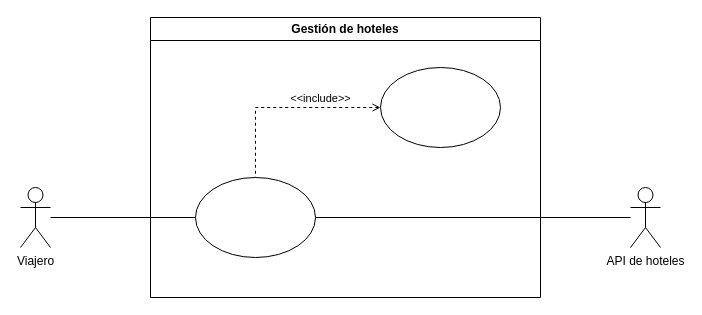
This 702x315 diagram has some shape labels left out. Each missing label, with the box of its shape:
Consultar hospedaje: (194, 176, 316, 258)
Estimar precios: (380, 66, 500, 148)
